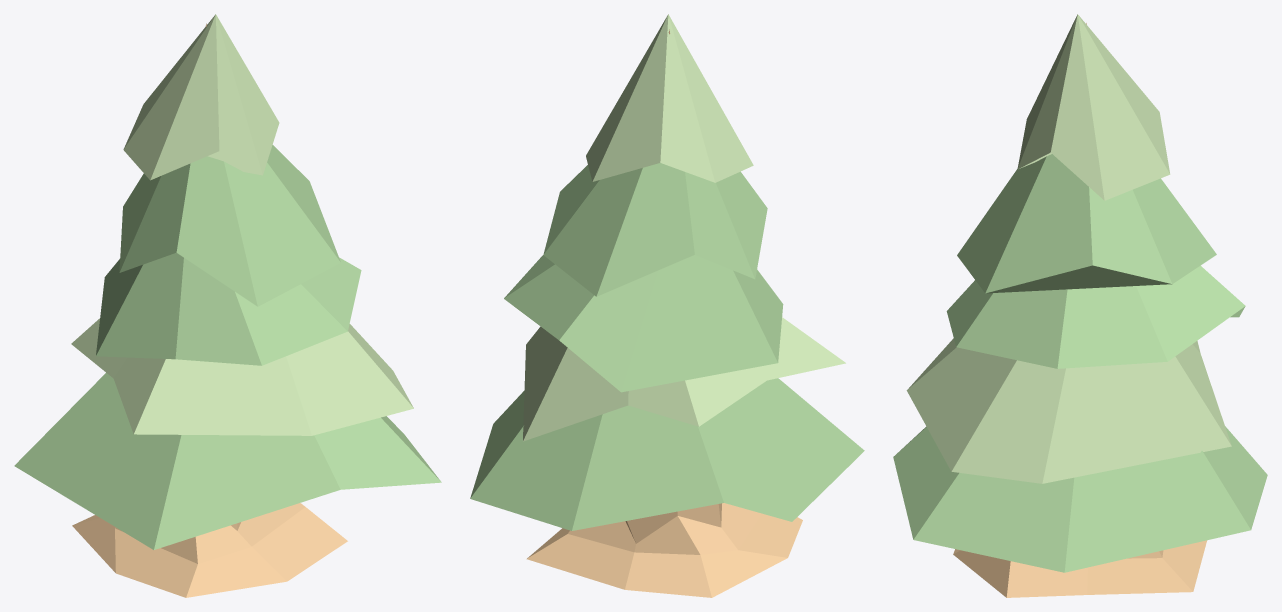
Rendered from Tree 2.fbx.
3 renders of one model, left to right at view 1: azimuth 30°, elevation 25°; view 2: azimuth 150°, elevation 25°; view 3: azimuth 270°, elevation 25°, orthographic. The views are drawn at different scales.
Parts seen in each view (by area): view 1: Tree 2; view 2: Tree 2; view 3: Tree 2.
Boxes of the visible parts, <box> form: Tree 2: <box>14,14,441,597</box>; Tree 2: <box>470,14,864,597</box>; Tree 2: <box>893,14,1267,597</box>.
Bounding box in the file's own units: 141 × 206 × 131.
